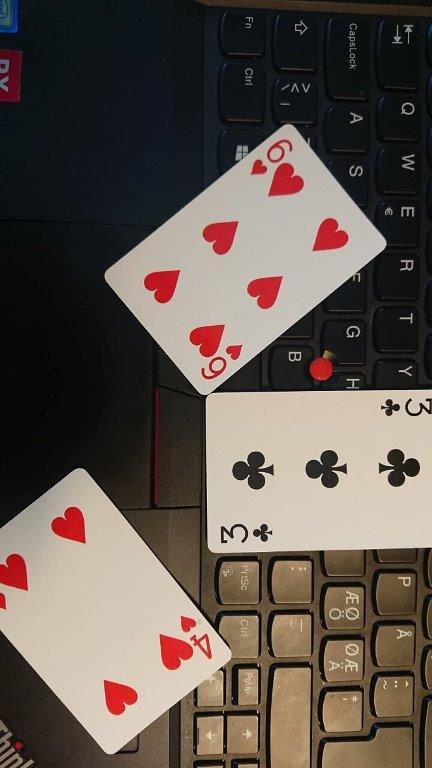6H: (248, 135, 292, 180)
